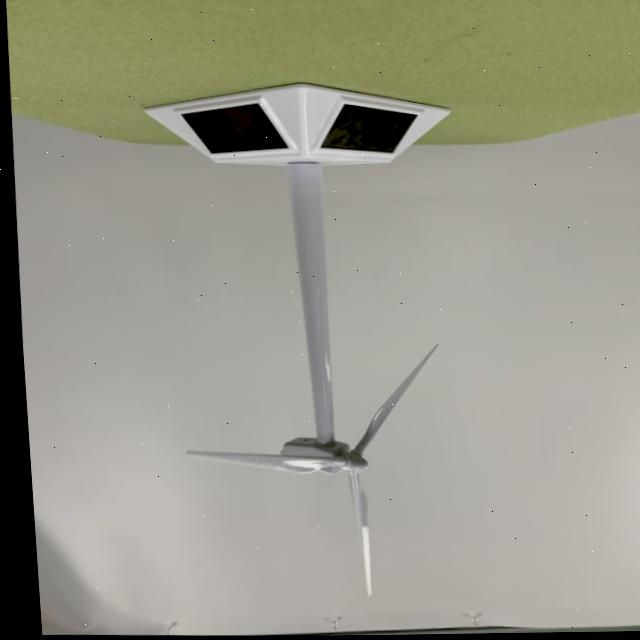solid-blade: (348, 344, 432, 455), (179, 451, 334, 473), (341, 473, 364, 596)
